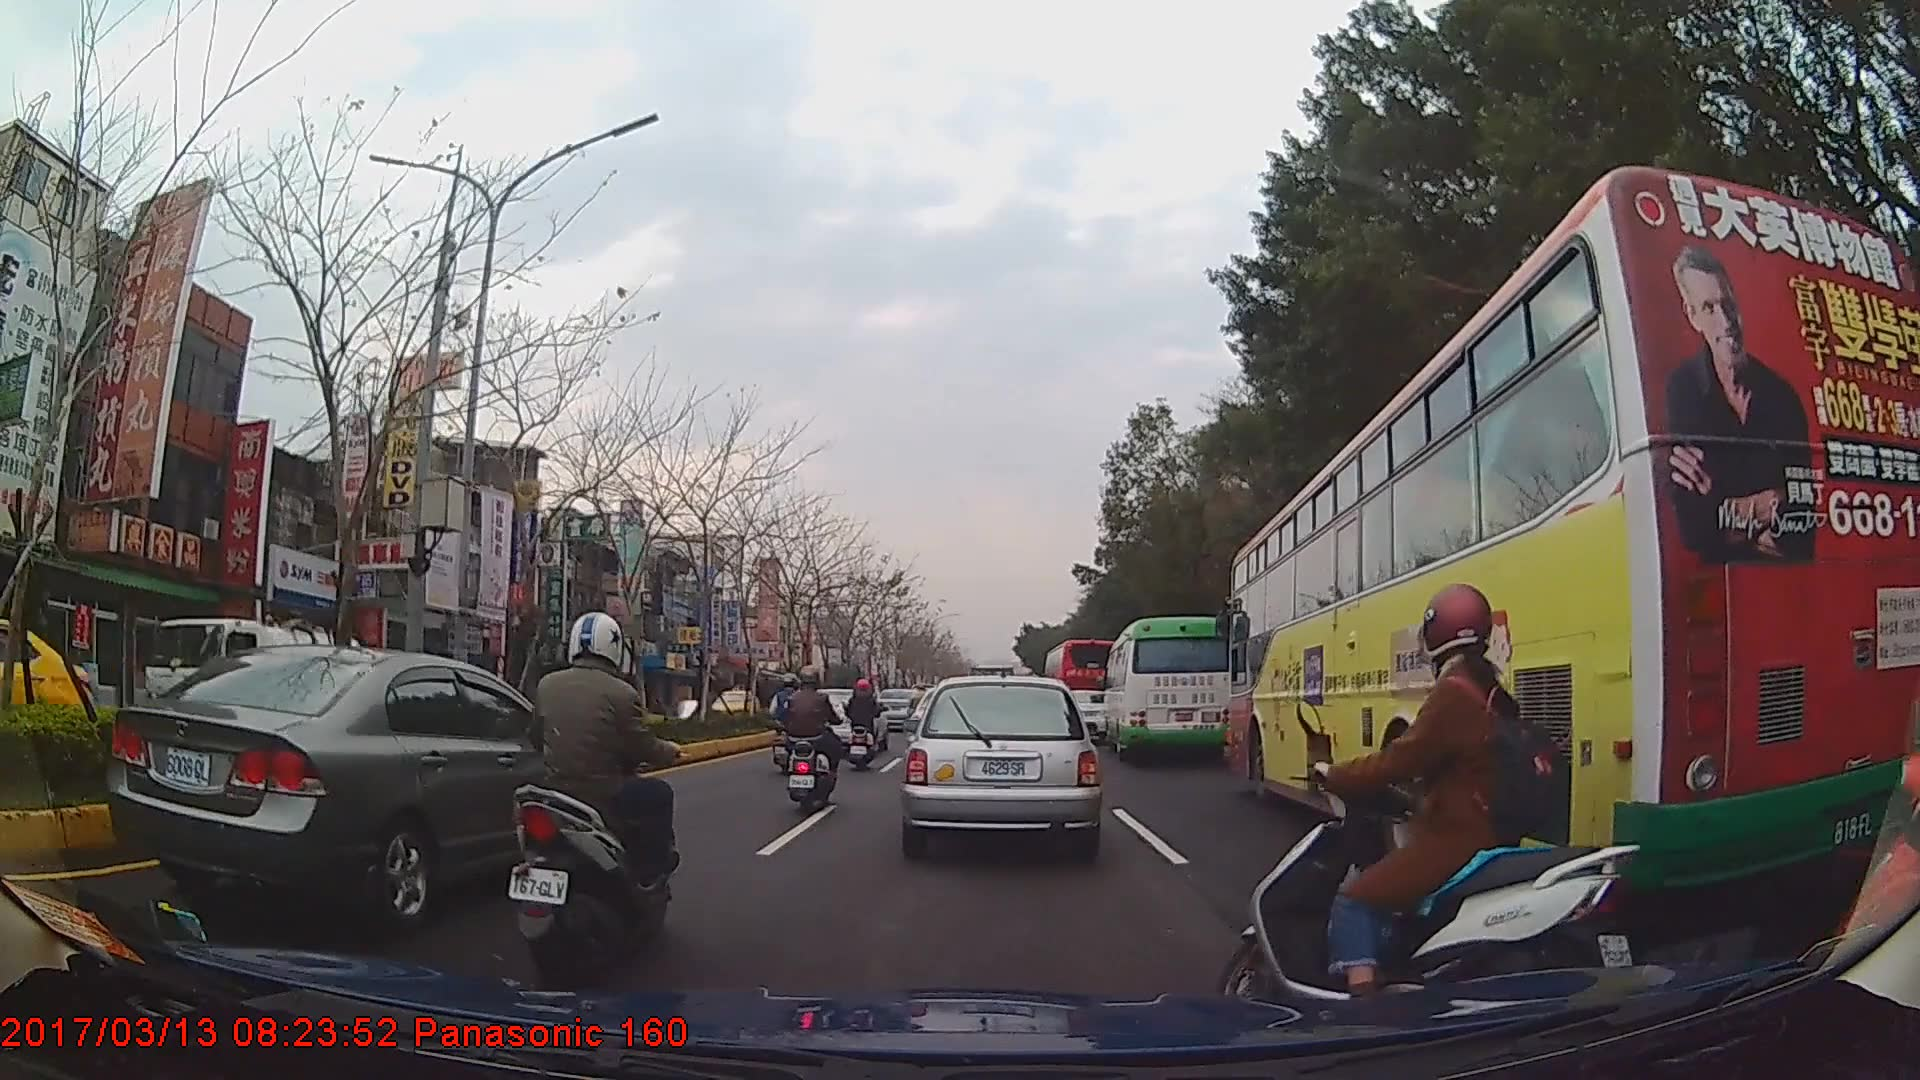rider: (1230, 586, 1647, 1040), (508, 614, 693, 970), (783, 664, 838, 813), (843, 676, 881, 774)
vehicle: (1226, 163, 1916, 905), (104, 641, 615, 930), (902, 672, 1101, 856), (1101, 615, 1232, 762), (0, 612, 94, 781), (1039, 636, 1120, 733), (794, 686, 888, 759), (707, 685, 764, 726)
